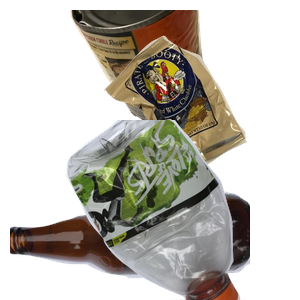glass: (10, 188, 250, 300)
metal: (68, 10, 265, 131)
plastic: (64, 120, 300, 300)
trash: (101, 33, 300, 206)
